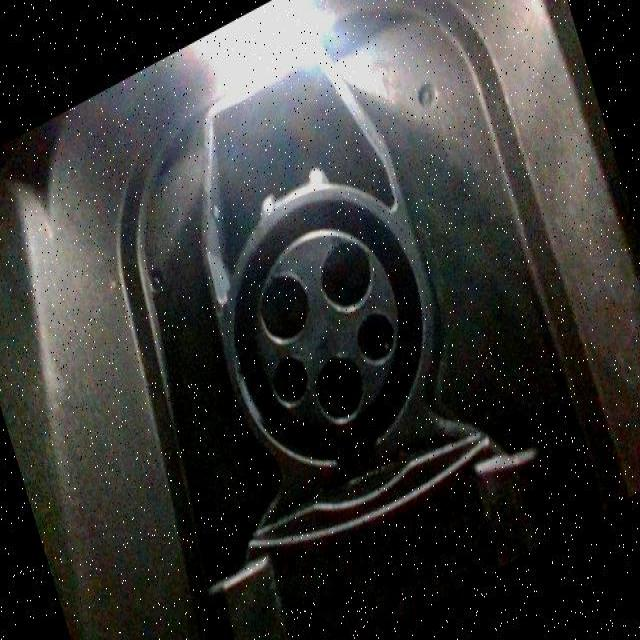Type 1: (246, 182, 411, 466)
